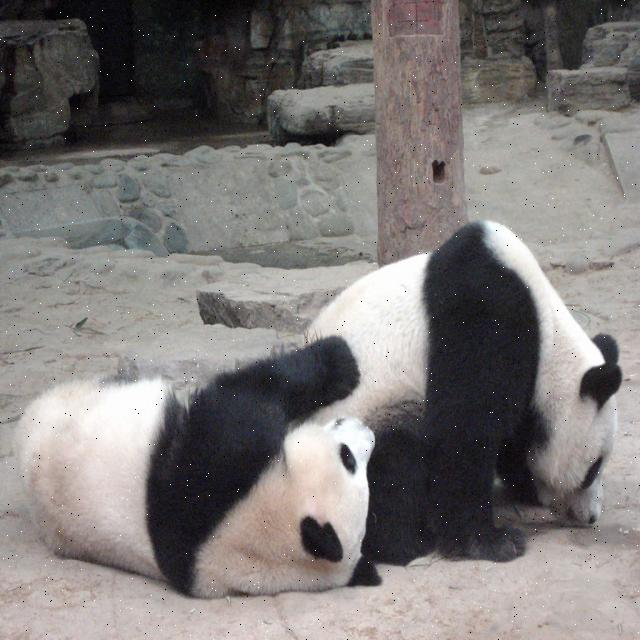panda: (305, 217, 622, 571), (10, 329, 384, 595)
